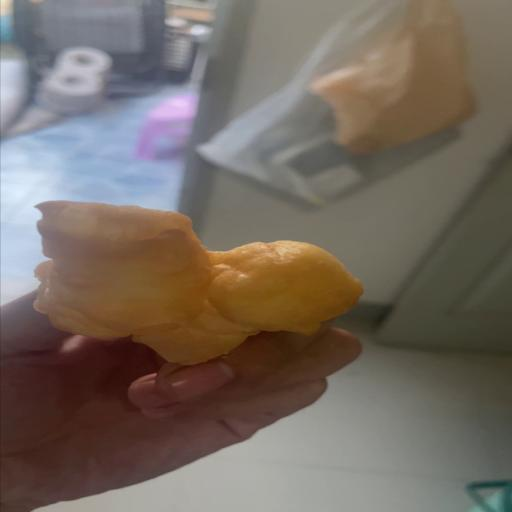street_golden_good: (33, 201, 362, 363)
